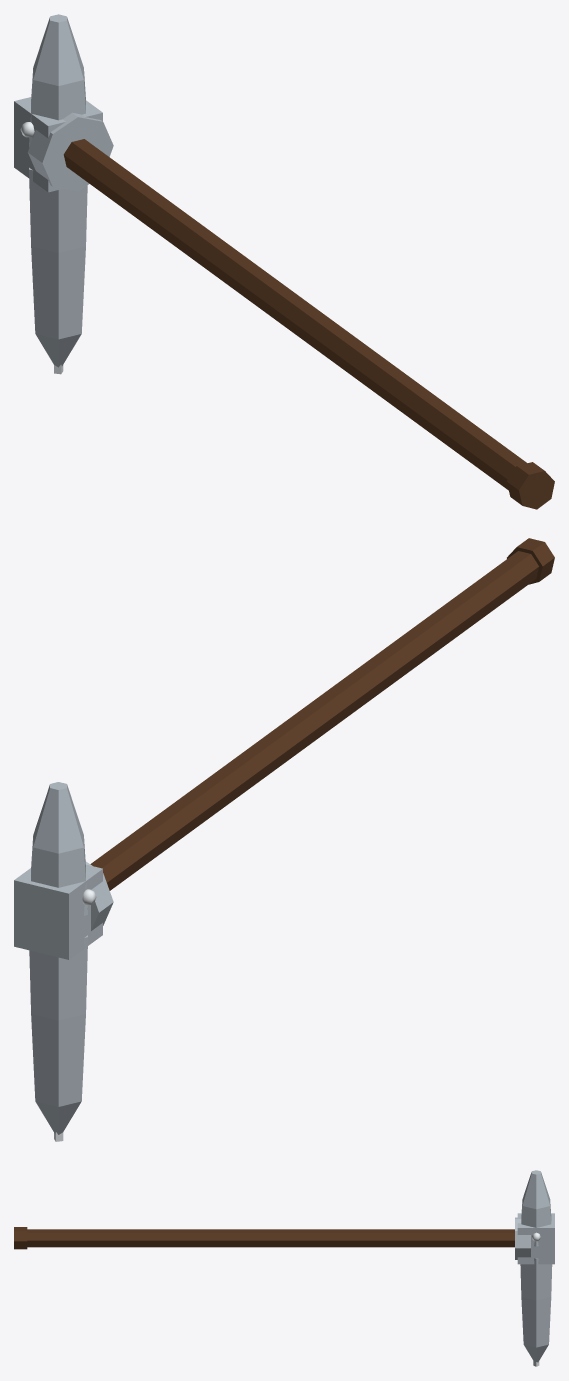
The model's file is Tool_Pickaxe_Steel.fbx.
3 renders of one model, top to bottom at view 1: azimuth 30°, elevation 25°; view 2: azimuth 150°, elevation 25°; view 3: azimuth 270°, elevation 25°, orthographic. The views are drawn at different scales.
Visible parts, largest first — view 1: Tool_Pickaxe_Steel; view 2: Tool_Pickaxe_Steel; view 3: Tool_Pickaxe_Steel.
Boxes of the visible parts, box(x1,y1,x2,y2) form: Tool_Pickaxe_Steel: box(14, 14, 554, 509); Tool_Pickaxe_Steel: box(14, 538, 554, 1141); Tool_Pickaxe_Steel: box(14, 1170, 554, 1366).
Bounding box in the file's own units: 3.41 × 16 × 40.6.
